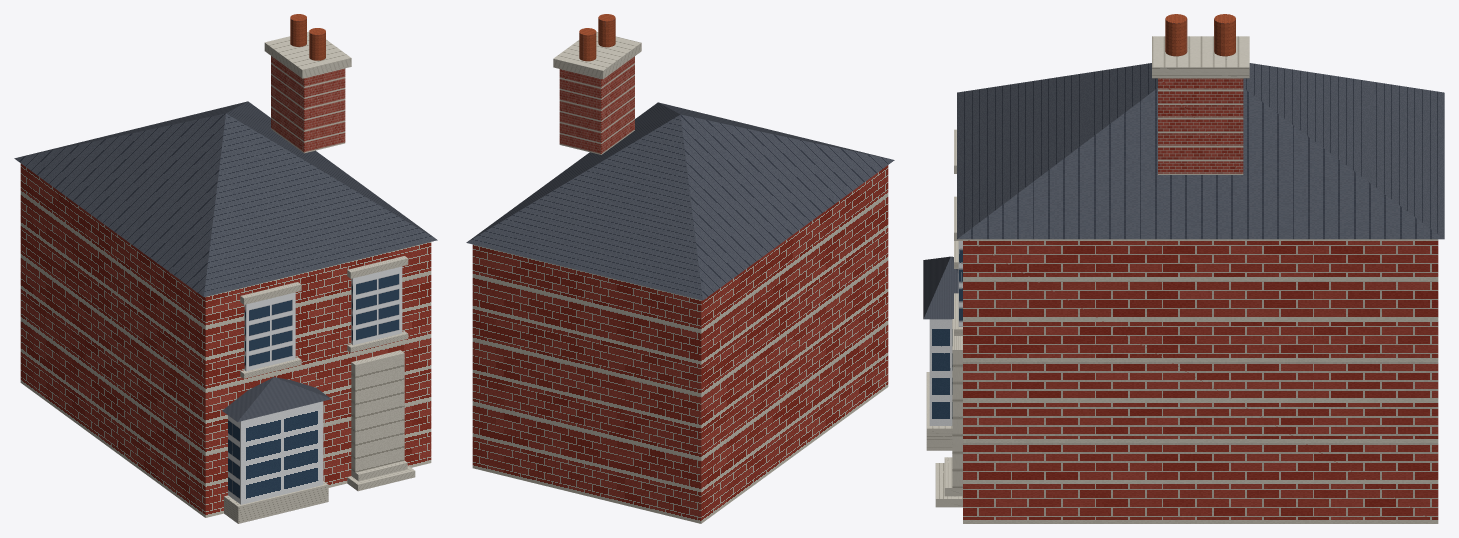
The model's file is house_terrace_01_redbrick.glb.
The picture shows the model from 3 angles, left to right: view 1: azimuth 30°, elevation 25°; view 2: azimuth 150°, elevation 25°; view 3: azimuth 270°, elevation 25°; orthographic projection. The views are drawn at different scales.
Visible parts, largest first — view 1: House_Terrace_01_Redbrick; view 2: House_Terrace_01_Redbrick; view 3: House_Terrace_01_Redbrick.
Boxes of the visible parts, <box> form: House_Terrace_01_Redbrick: <box>14,14,437,523</box>; House_Terrace_01_Redbrick: <box>466,14,894,523</box>; House_Terrace_01_Redbrick: <box>923,14,1444,523</box>.
Bounding box in the file's own units: 5.7 × 8.8 × 8.55.
Materials: 1 (1 with a texture image).
